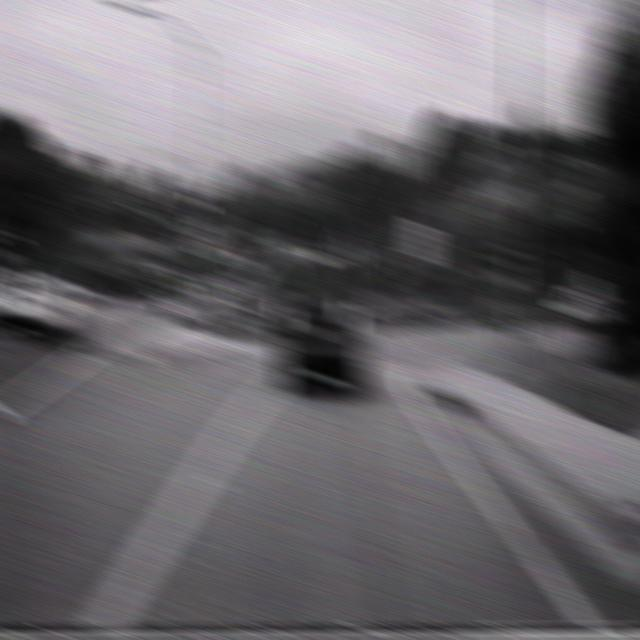noRightTurn: (191, 218, 219, 254)
